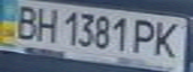1: (109, 14, 133, 53), (57, 8, 81, 46)
3: (75, 10, 96, 48)
8: (90, 11, 112, 51)
B: (9, 2, 42, 40)
H: (33, 4, 60, 43)
K: (148, 18, 187, 60)
P: (127, 17, 160, 55)
